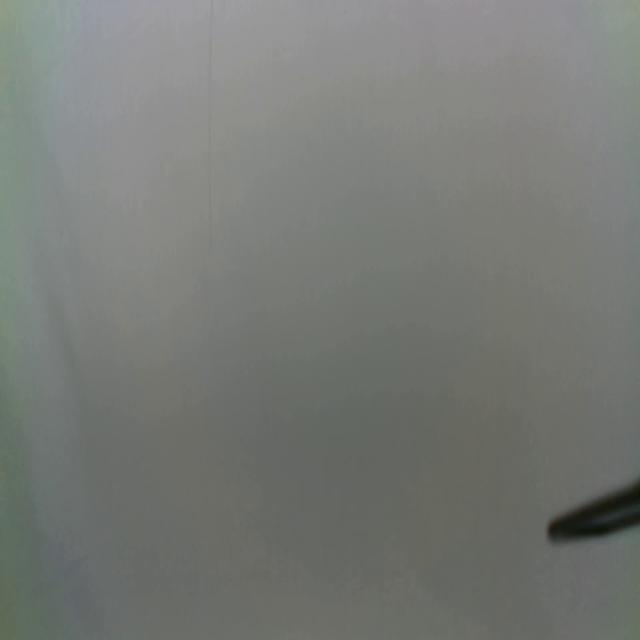crease: (204, 0, 217, 259)
